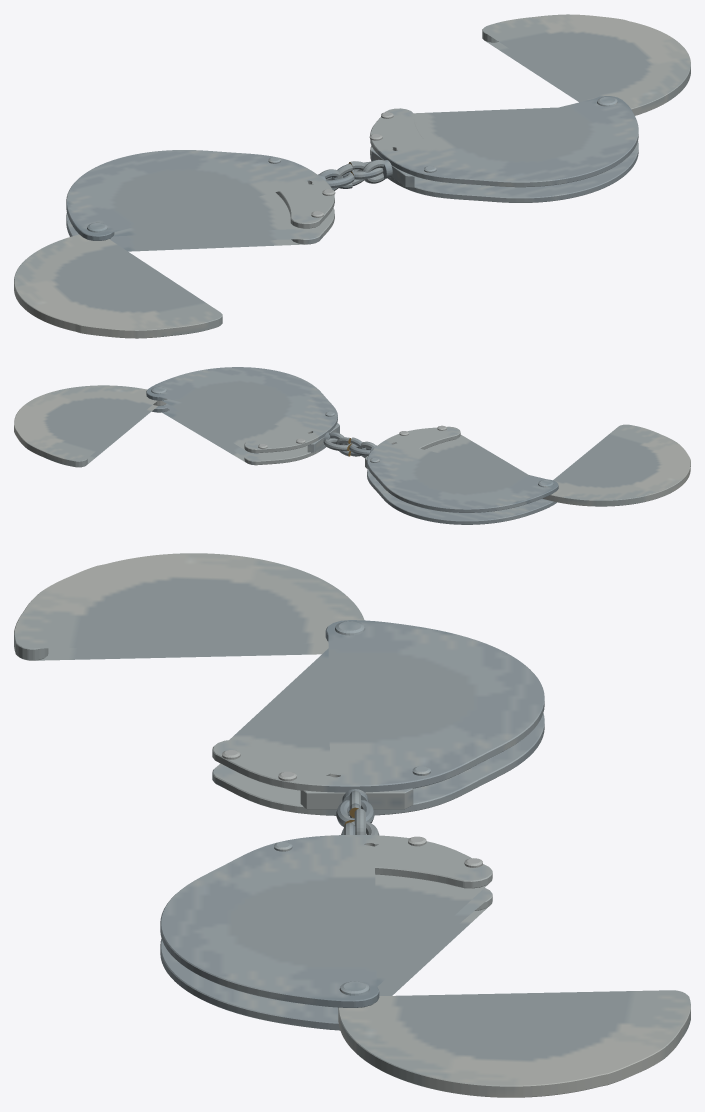
Rendered from Cut_cuffs_TwoFragments_M410.fbx.
3 renders of one model, top to bottom at view 1: azimuth 30°, elevation 25°; view 2: azimuth 150°, elevation 25°; view 3: azimuth 270°, elevation 25°, orthographic. The views are drawn at different scales.
Visible parts, largest first — view 1: Cut_cuffs_Fragment0, Cut_cuffs_Fragment1; view 2: Cut_cuffs_Fragment1, Cut_cuffs_Fragment0; view 3: Cut_cuffs_Fragment1, Cut_cuffs_Fragment0.
Part boxes in pixels (x1,y1,x2,y2): Cut_cuffs_Fragment0: (14, 150, 354, 338); Cut_cuffs_Fragment1: (348, 14, 690, 202); Cut_cuffs_Fragment1: (14, 367, 351, 467); Cut_cuffs_Fragment0: (349, 424, 690, 524); Cut_cuffs_Fragment1: (160, 808, 690, 1097); Cut_cuffs_Fragment0: (14, 553, 544, 826).
Size of the model in its own units: 190 by 6.4 by 102.
Materials: 4 (3 with a texture image).
